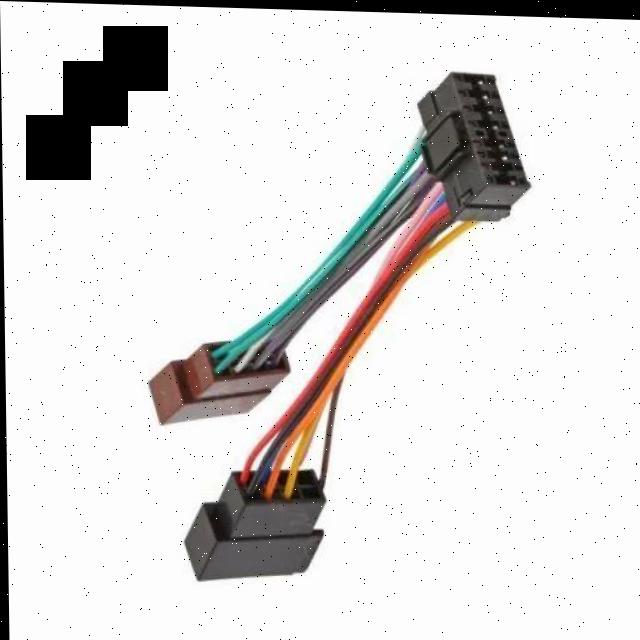connector: (401, 57, 536, 233), (178, 461, 331, 581), (143, 330, 292, 423)
